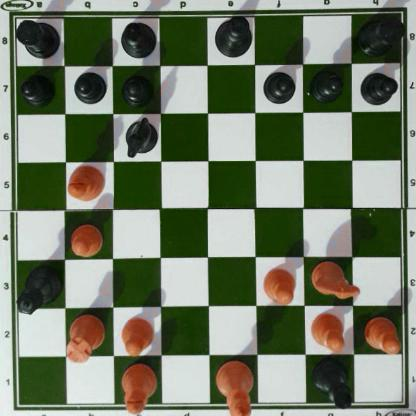black-bishop: (311, 357, 352, 411), (117, 22, 158, 59)
black-king: (212, 14, 254, 57)
black-knight: (123, 115, 159, 158)
black-pawn: (359, 69, 396, 105), (310, 68, 344, 101), (20, 72, 54, 104), (263, 68, 295, 102), (73, 70, 104, 104), (121, 71, 152, 105)
black-queen: (17, 264, 63, 317)
black-rook: (12, 15, 60, 58), (358, 13, 405, 55)
white-bishop: (122, 360, 157, 414), (66, 164, 106, 203)
white-king: (215, 359, 254, 416)
white-knight: (309, 260, 360, 299)
white-pawn: (308, 310, 345, 352), (363, 315, 402, 354), (120, 315, 154, 355), (68, 223, 104, 258), (262, 266, 295, 304)
white-rook: (63, 310, 106, 363)
